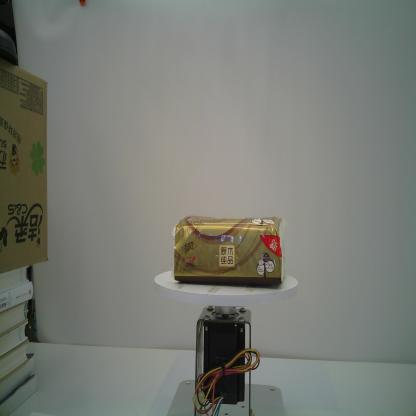Tissue: (171, 214, 287, 285)
